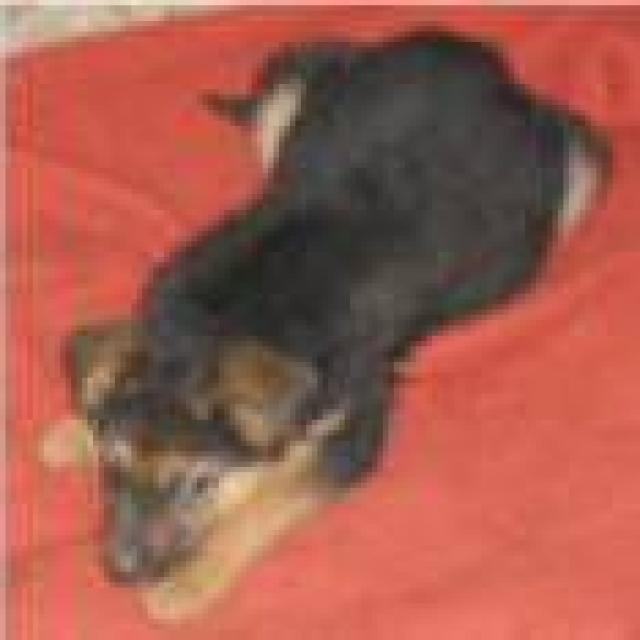dog: (55, 21, 612, 624)
